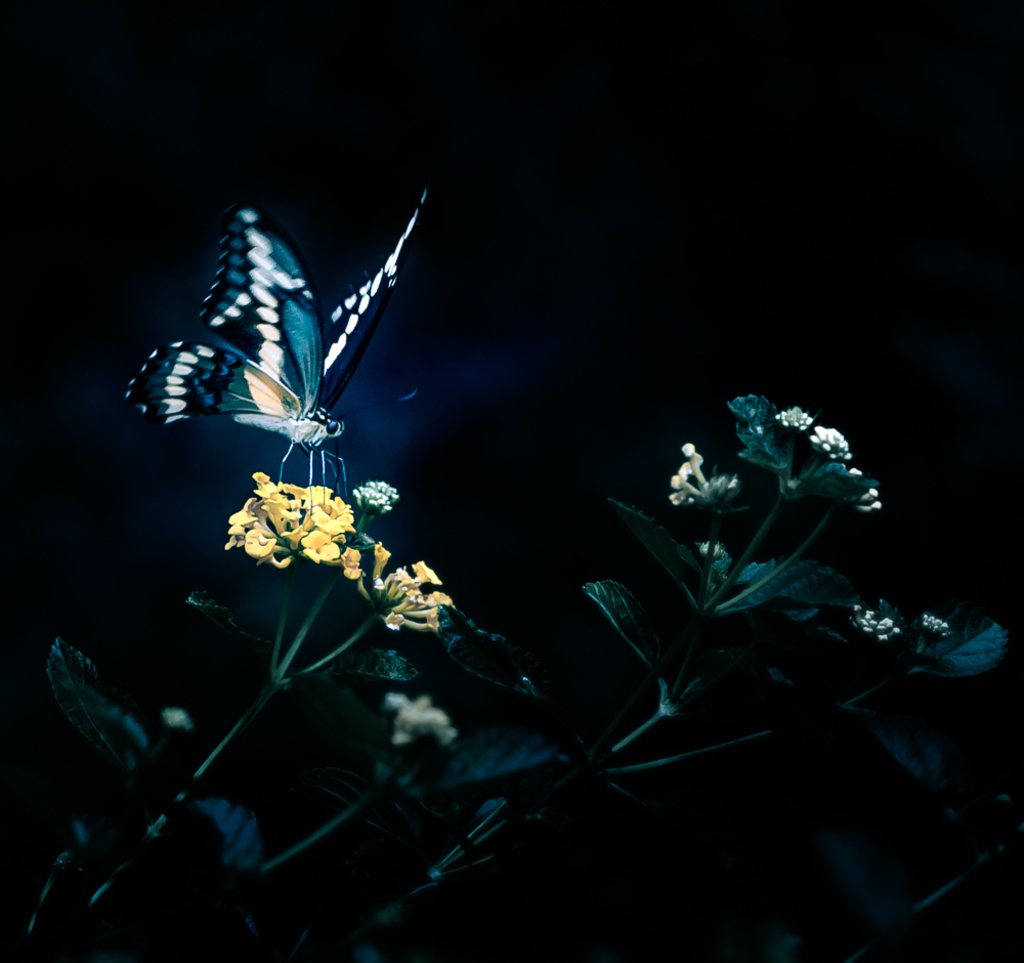Butterfly: (119, 190, 443, 453)
